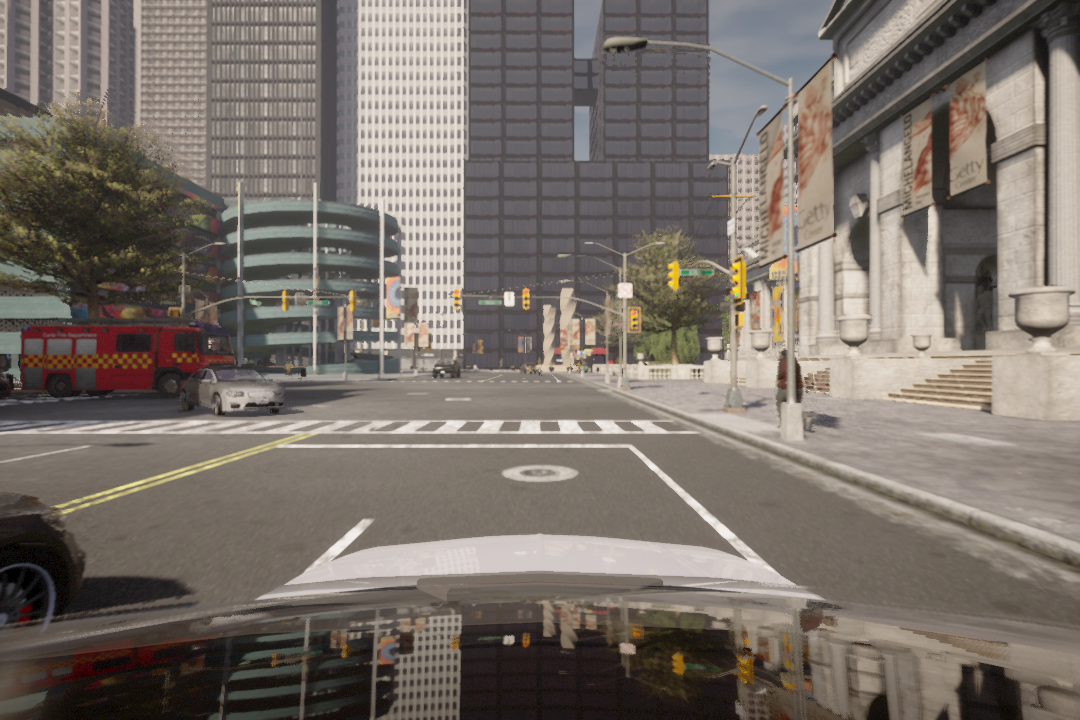TrafficLight: (732, 260, 748, 301), (629, 309, 642, 334), (666, 262, 678, 289), (521, 287, 531, 310), (452, 289, 459, 308)
TrafficSign: (618, 281, 634, 299)
walkside: (3, 417, 713, 444)
